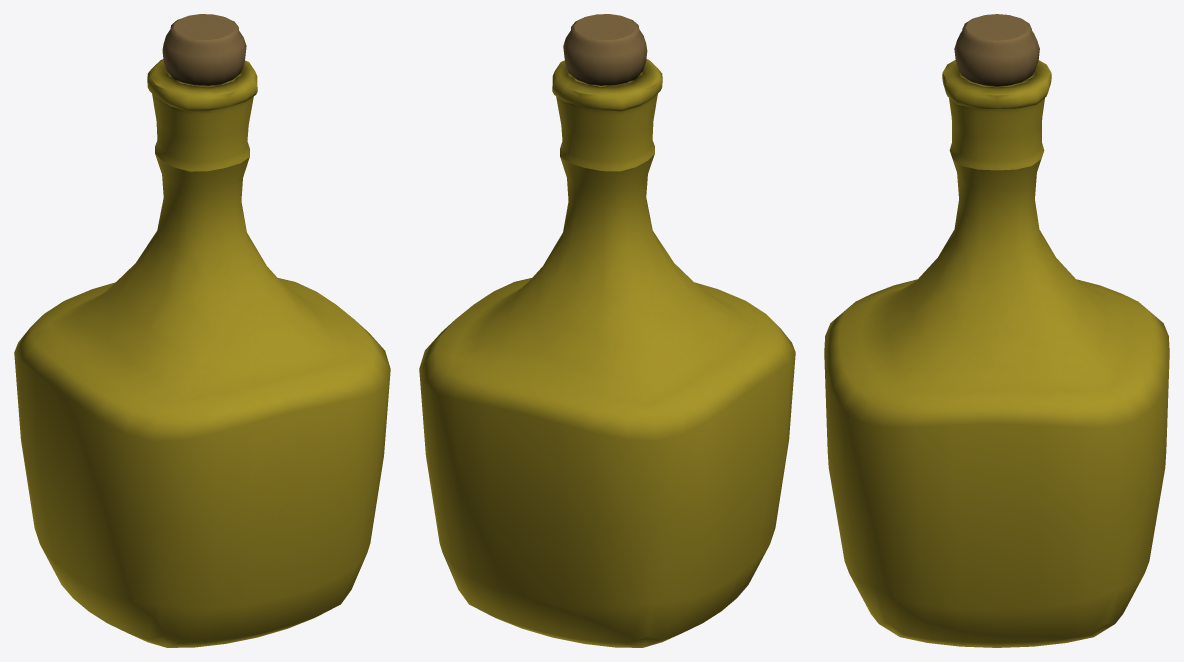
Rendered from Alchemy Bottle 5.fbx.
3 renders of one model, left to right at view 1: azimuth 30°, elevation 25°; view 2: azimuth 150°, elevation 25°; view 3: azimuth 270°, elevation 25°, orthographic.
Parts seen in each view (by area): view 1: Alchemy_Bottle_5; view 2: Alchemy_Bottle_5; view 3: Alchemy_Bottle_5.
Boxes of the visible parts, bbox=[...] form: Alchemy_Bottle_5: bbox=[14, 14, 390, 647]; Alchemy_Bottle_5: bbox=[419, 14, 795, 647]; Alchemy_Bottle_5: bbox=[824, 14, 1169, 647].
Size of the model in its own units: 10.44 by 19.86 by 10.59.
1 material, 1 textured.
